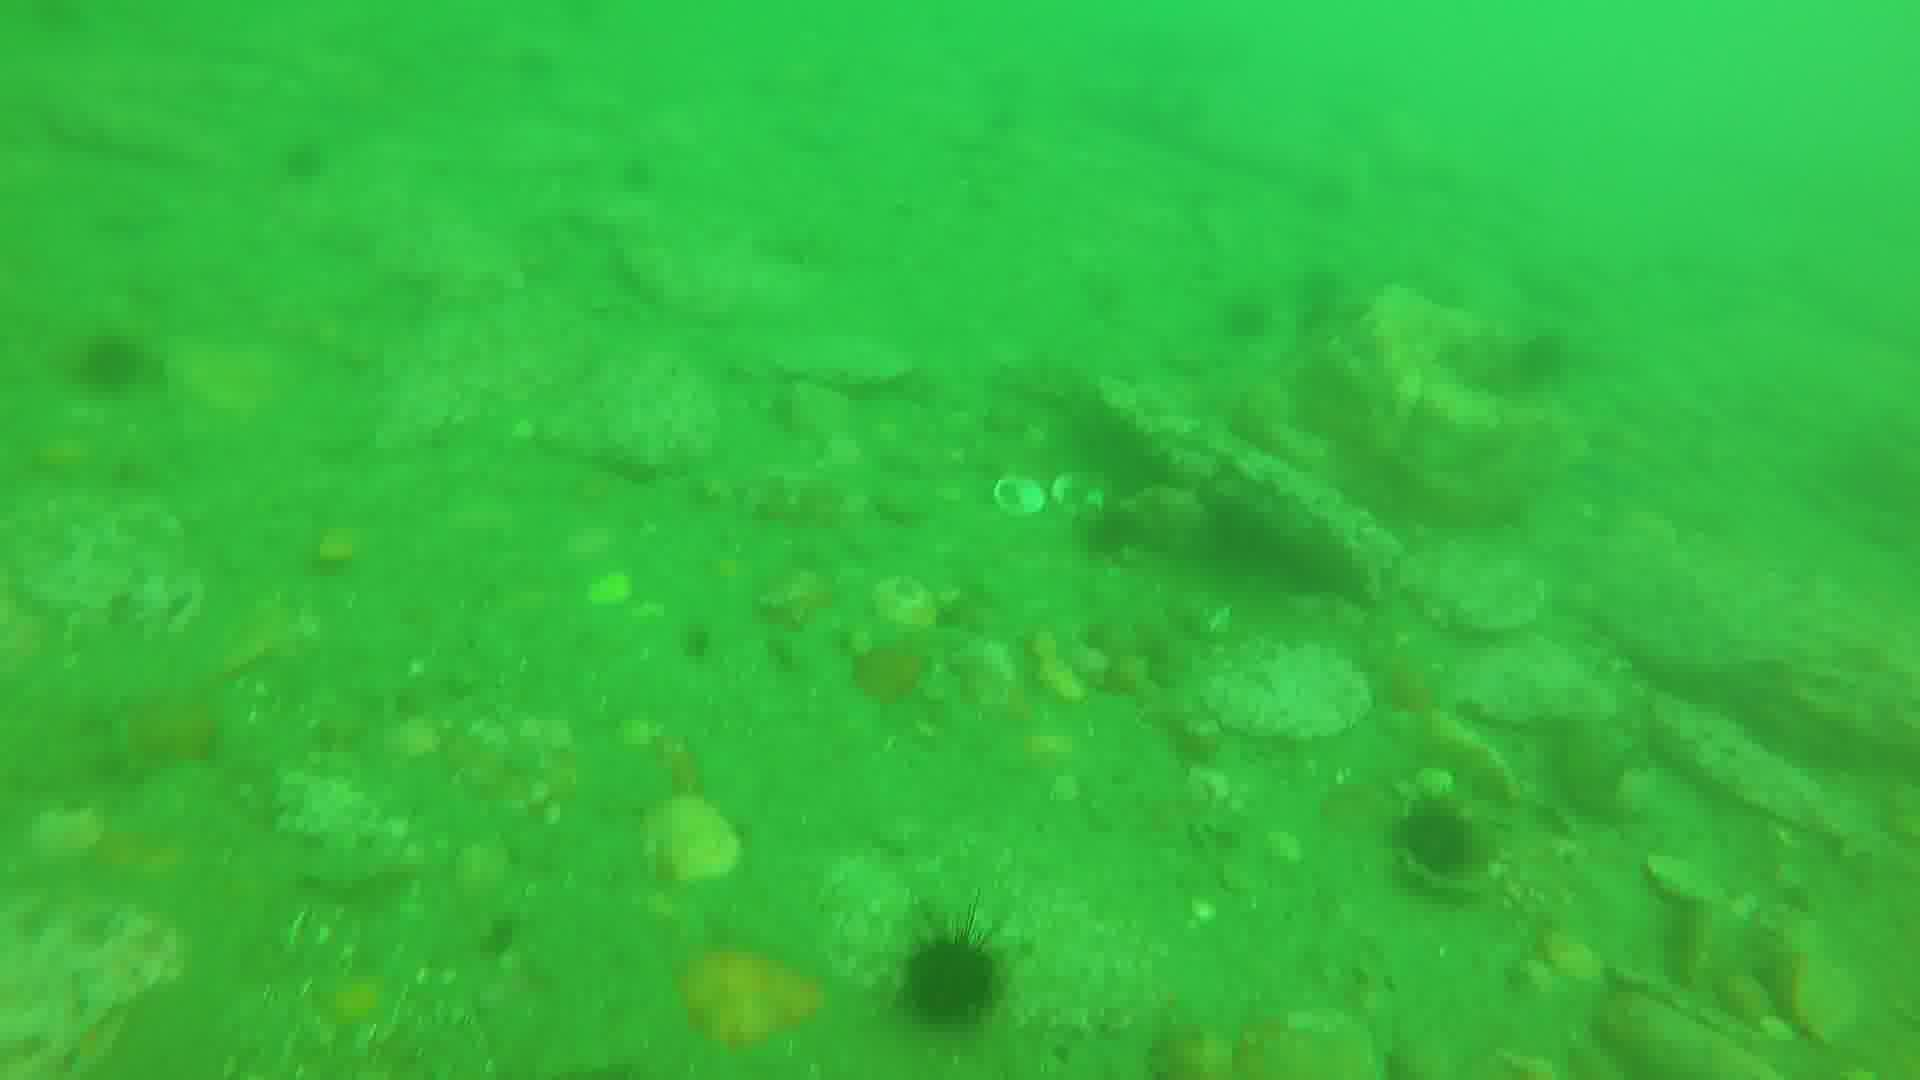echinus: (911, 924, 1006, 1023), (1389, 800, 1481, 881), (76, 331, 144, 393)
scallop: (641, 798, 745, 887), (870, 571, 942, 636), (1048, 465, 1120, 527), (992, 462, 1046, 535)
